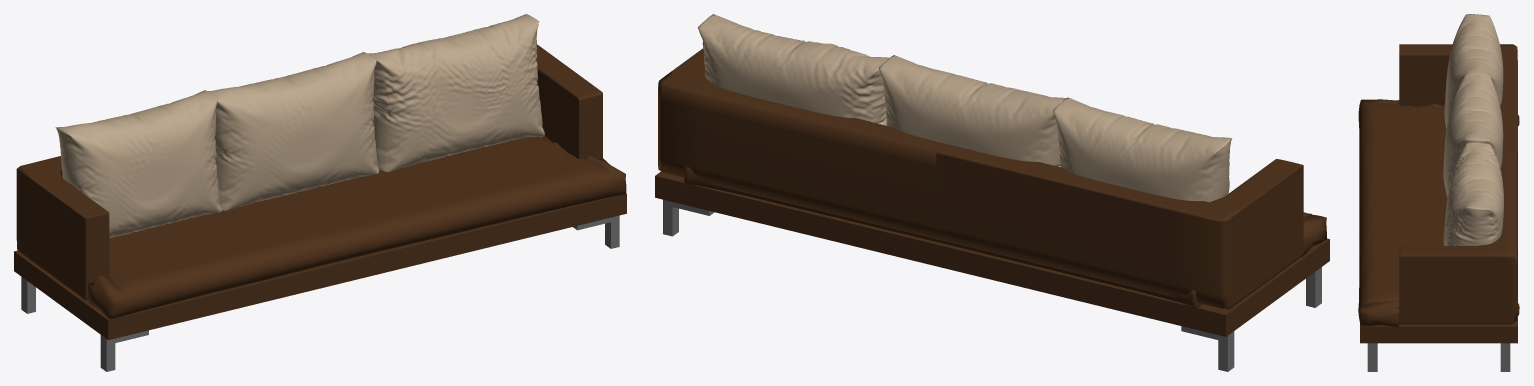
File: Sofa.fbx
The picture shows the model from 3 angles, left to right: view 1: azimuth 30°, elevation 25°; view 2: azimuth 150°, elevation 25°; view 3: azimuth 270°, elevation 25°; orthographic projection. The views are drawn at different scales.
Visible parts, largest first — view 1: Cube.002, Cube.007, Cube.006, Cube.004, Cube.001, Cube, Cube.003; view 2: Cube.001, Cube, Cube.006, Cube.007, Cube.004, Cube.002, Cube.003; view 3: Cube.002, Cube.001, Cube.007, Cube.006, Cube.004, Cube, Cube.003.
Part boxes in pixels (x1,y1,x2,y2): Cube.002: (87,135,626,319); Cube.007: (368,14,544,171); Cube.006: (201,52,379,210); Cube.004: (55,90,221,237); Cube.001: (16,44,602,300); Cube: (14,193,626,339); Cube.003: (21,215,619,371); Cube.001: (658,48,1303,309); Cube: (655,171,1329,336); Cube.006: (879,55,1072,166); Cube.007: (698,14,889,125); Cube.004: (1053,97,1232,202); Cube.002: (683,165,1326,308); Cube.003: (663,199,1321,371); Cube.002: (1358,99,1519,327); Cube.001: (1399,44,1517,324); Cube.007: (1443,142,1503,245); Cube.006: (1443,73,1503,197); Cube.004: (1444,14,1503,129); Cube: (1360,298,1517,343); Cube.003: (1367,343,1510,371).
Bounding box in the file's own units: 178 × 61.32 × 56.6.
